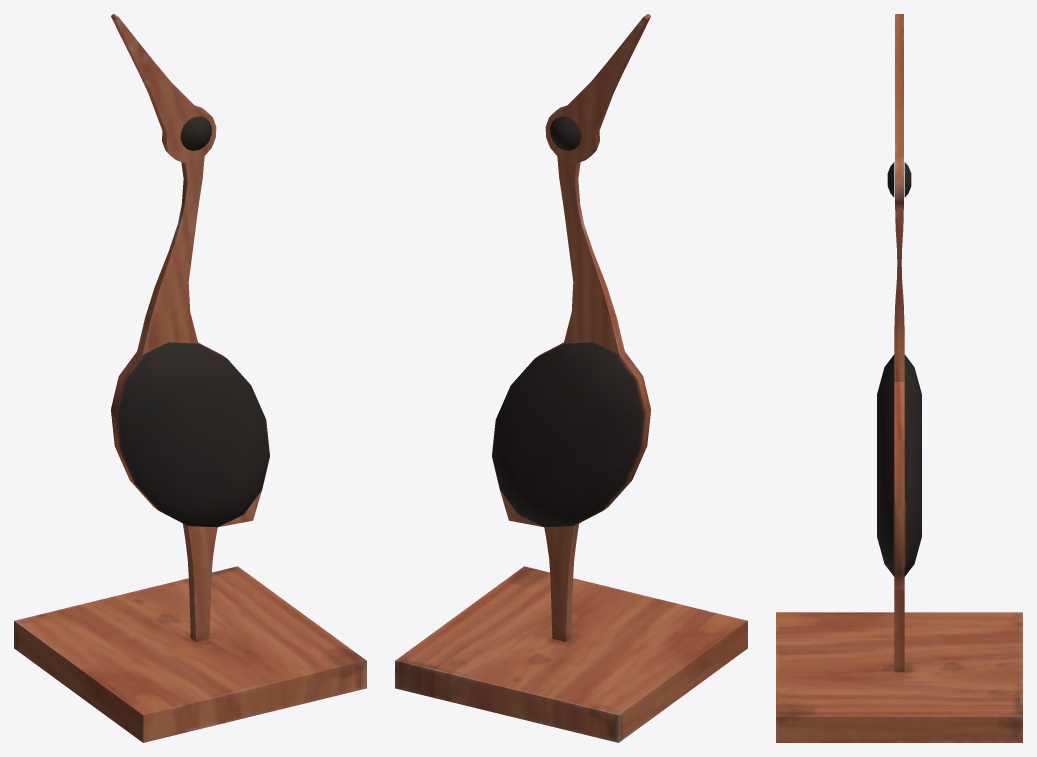
The model's file is SM_Heron.glb.
3 views of the same model, side by side, from view 1: azimuth 30°, elevation 25°; view 2: azimuth 150°, elevation 25°; view 3: azimuth 270°, elevation 25° (orthographic). The views are drawn at different scales.
Visible parts, largest first — view 1: SM_Heron; view 2: SM_Heron; view 3: SM_Heron.
Part boxes in pixels (bbox=[...]): SM_Heron: bbox=[14, 14, 366, 742]; SM_Heron: bbox=[395, 14, 747, 742]; SM_Heron: bbox=[776, 14, 1022, 742].
Bounding box in the file's own units: 0.05 × 0.1433 × 0.05.
1 material, 1 textured.
